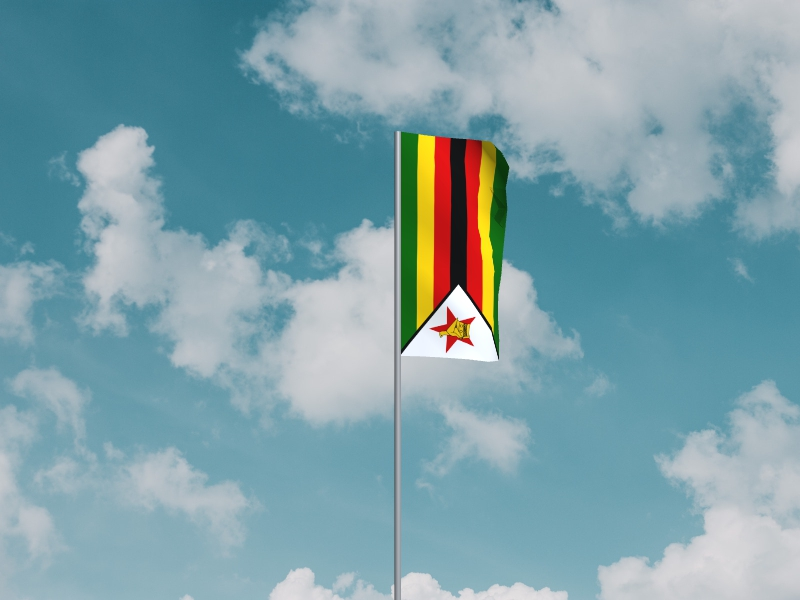zw: (401, 132, 510, 364)
